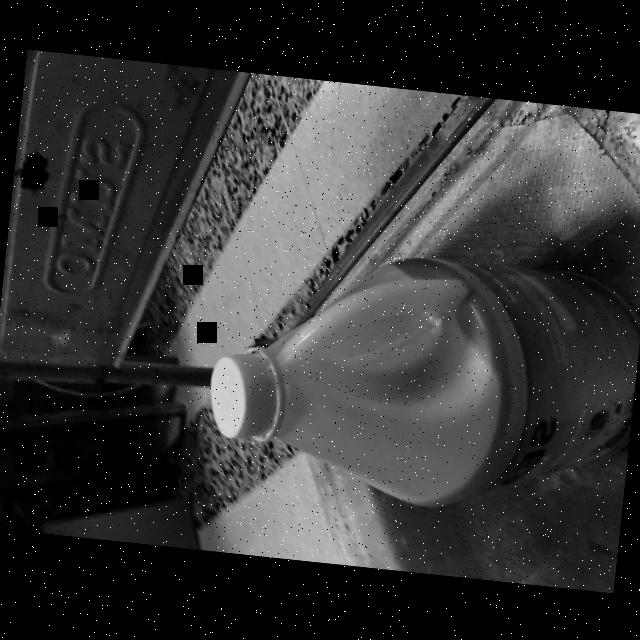chemical_plastic_gallon: (200, 225, 640, 528)
